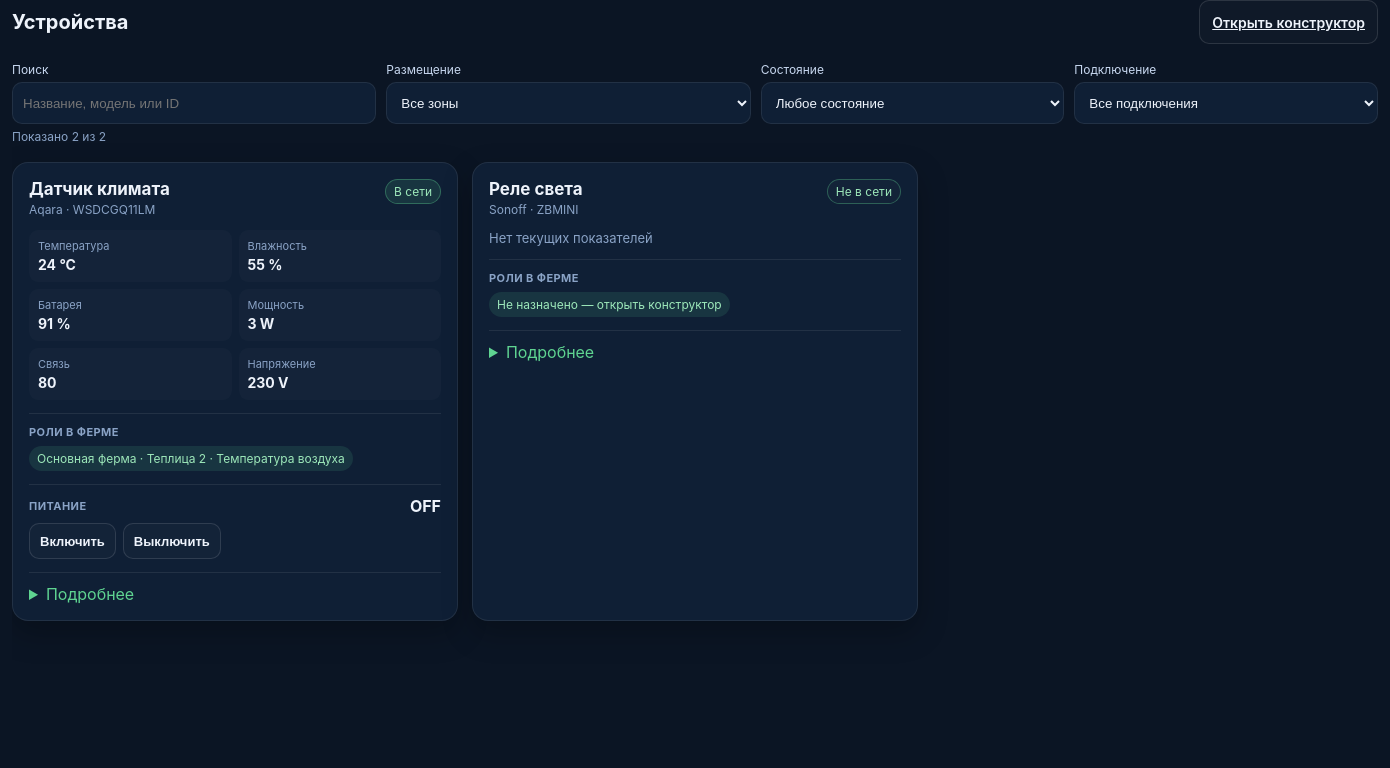
Scenario: AppZigbeeDevices › sohranyaet filtr teplicy pri obnovlenii i sbros ne otpravlyaet komandy
The width and height of the screenshot is (1390, 768).
Step 1. Select "Теплица 2" in the dropdown labelled "Размещение" → [569, 103], box 386,82 -> 751,124
Wait 5000 ms
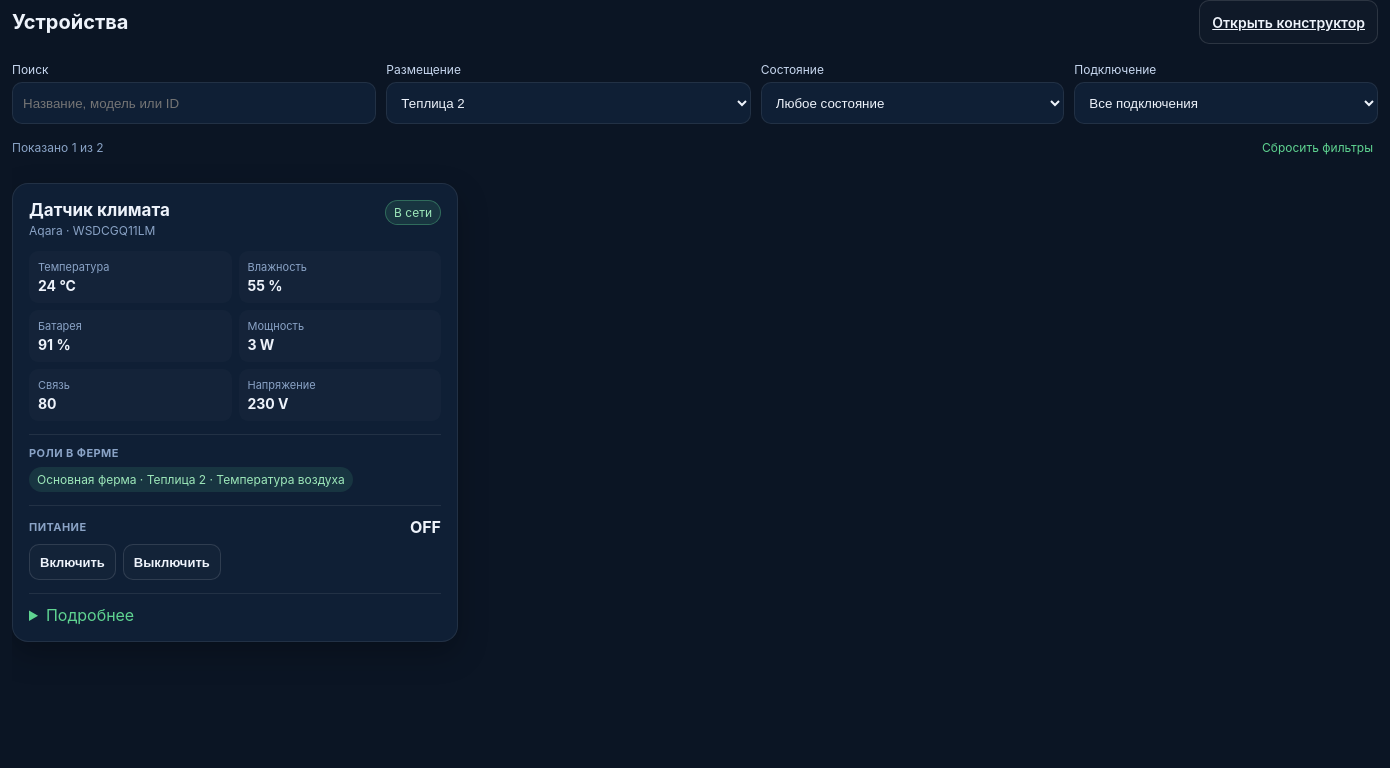
Expected: the heading "Датчик климата" is shown, 29,200 -> 170,220
Now the heading "Реле света" is gone
Now the text "Показано 1 из 2" is shown, box 12,140 -> 104,154
Step 2. Select "Без назначения" in the dropdown labelled "Размещение" → [569, 103], box 386,82 -> 751,124
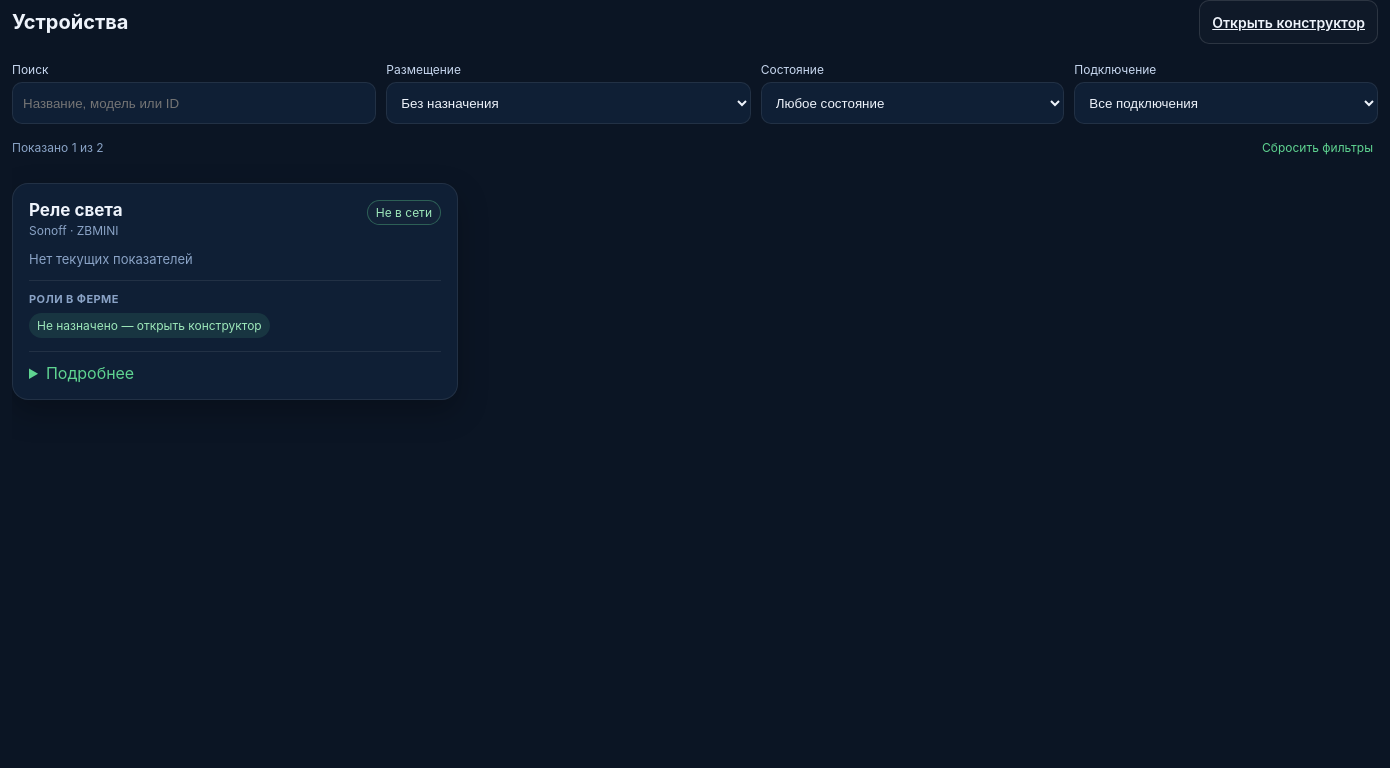
Now the heading "Реле света" is shown, box 29,200 -> 123,220
Step 3. Click the button "Сбросить фильтры" → [1318, 147], box 1257,129 -> 1378,165
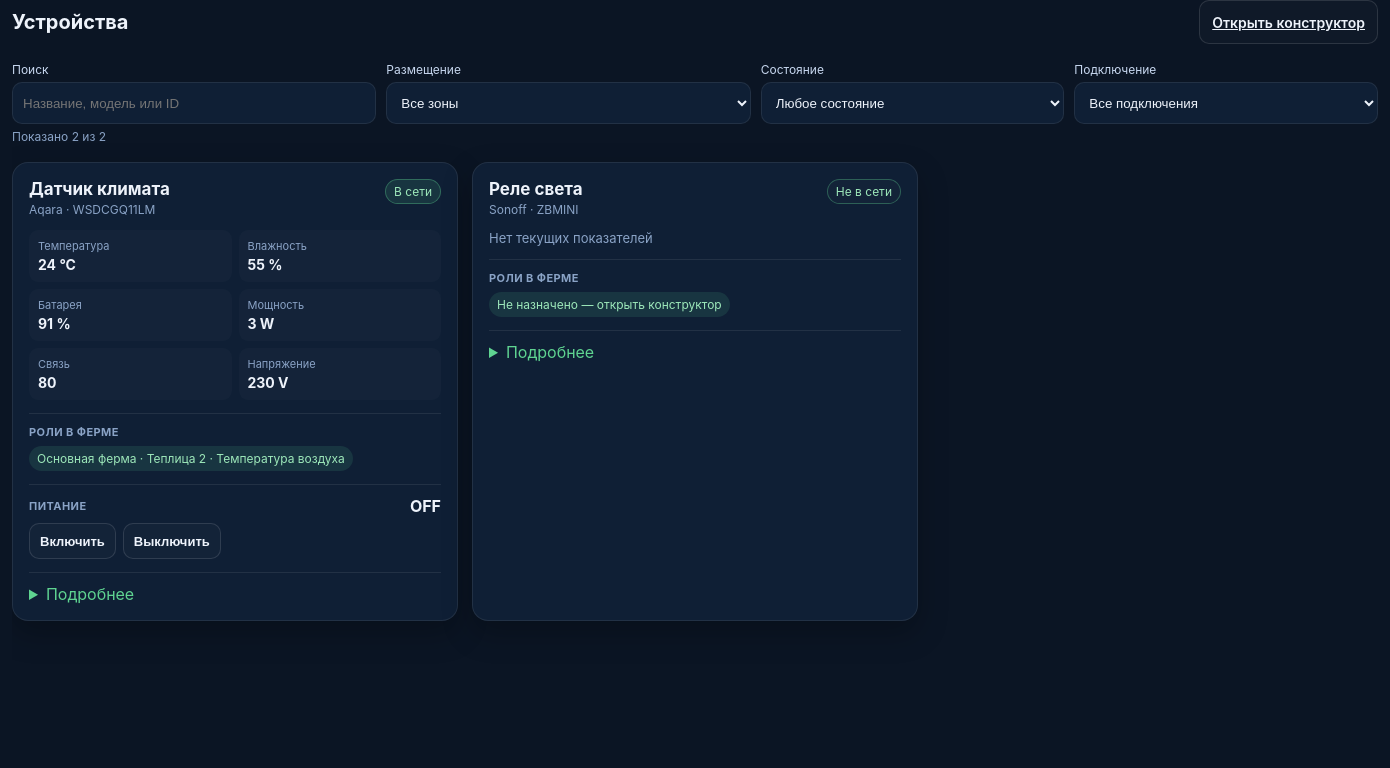
Now the heading "Датчик климата" is shown, box 29,179 -> 170,199
